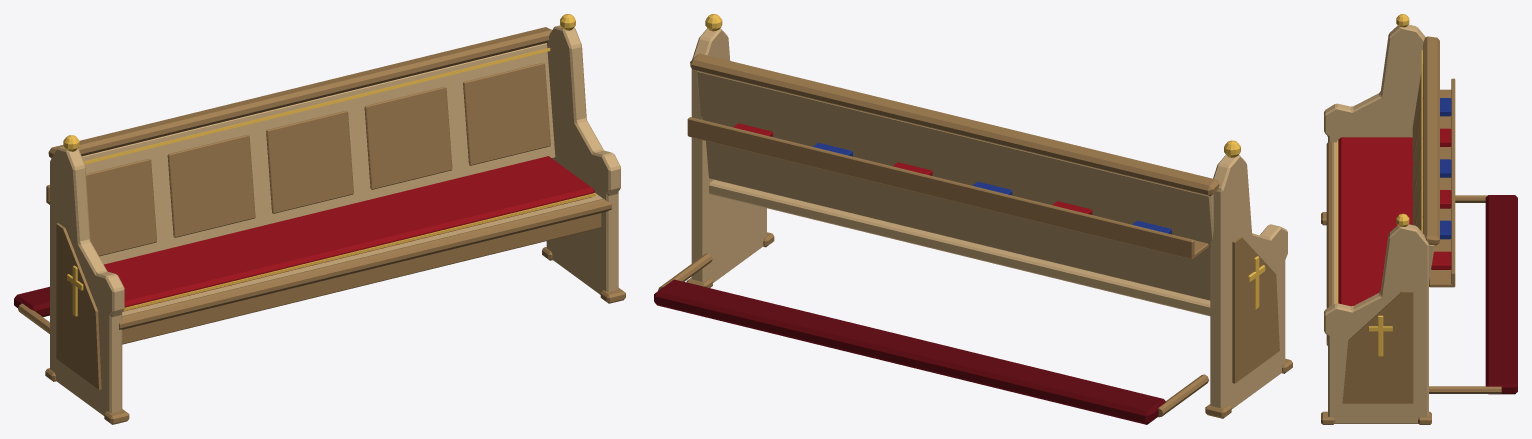
File: pew.obj
3 views of the same model, side by side, from view 1: azimuth 30°, elevation 25°; view 2: azimuth 150°, elevation 25°; view 3: azimuth 270°, elevation 25° (orthographic). The views are drawn at different scales.
Visible parts, largest first — view 1: box.010, box.012, prism.002, prism, box.018, box.009, box.015, box.016, box.017, box.014, lathe.002, box.013 (+5 smaller); view 2: box.012, box.028, box.021, box.018, prism, box.008, prism.002, prism.001, lathe.003; view 3: box.010, prism.002, box.028, prism, prism.003, box.018, box.020, lathe.002, box.021, box.008, lathe.004, box.013 (+13 smaller).
Part boxes in pixels (bbox=[...]): box.010: bbox=[104, 156, 594, 311]; box.012: bbox=[81, 43, 555, 264]; prism.002: bbox=[546, 25, 620, 294]; prism: bbox=[50, 146, 124, 415]; box.018: bbox=[48, 27, 551, 158]; box.009: bbox=[122, 213, 601, 344]; box.015: bbox=[266, 110, 353, 213]; box.016: bbox=[364, 86, 452, 189]; box.017: bbox=[463, 62, 550, 165]; box.014: bbox=[167, 134, 255, 237]; lathe.002: bbox=[119, 199, 611, 329]; box.013: bbox=[86, 158, 156, 256]; box.012: bbox=[696, 71, 1213, 300]; box.028: bbox=[654, 279, 1165, 424]; box.021: bbox=[687, 117, 1194, 259]; box.018: bbox=[690, 53, 1219, 196]; prism: bbox=[1210, 155, 1287, 409]; box.008: bbox=[709, 180, 1210, 316]; prism.002: bbox=[691, 28, 766, 282]; prism.001: bbox=[1232, 237, 1279, 383]; lathe.003: bbox=[1158, 374, 1208, 417]; box.010: bbox=[1338, 137, 1413, 306]; prism.002: bbox=[1324, 224, 1428, 423]; box.028: bbox=[1485, 195, 1517, 394]; prism: bbox=[1324, 24, 1425, 142]; prism.003: bbox=[1342, 291, 1413, 403]; box.018: bbox=[1423, 36, 1439, 245]; box.020: bbox=[1429, 89, 1452, 287]; lathe.002: bbox=[1326, 142, 1333, 345]; box.021: bbox=[1451, 78, 1455, 287]; box.008: bbox=[1334, 142, 1337, 303]; lathe.004: bbox=[1429, 386, 1501, 393]; box.013: bbox=[1412, 64, 1423, 161].
Size of the model in its own units: 2.44 by 1.13 by 0.975.
